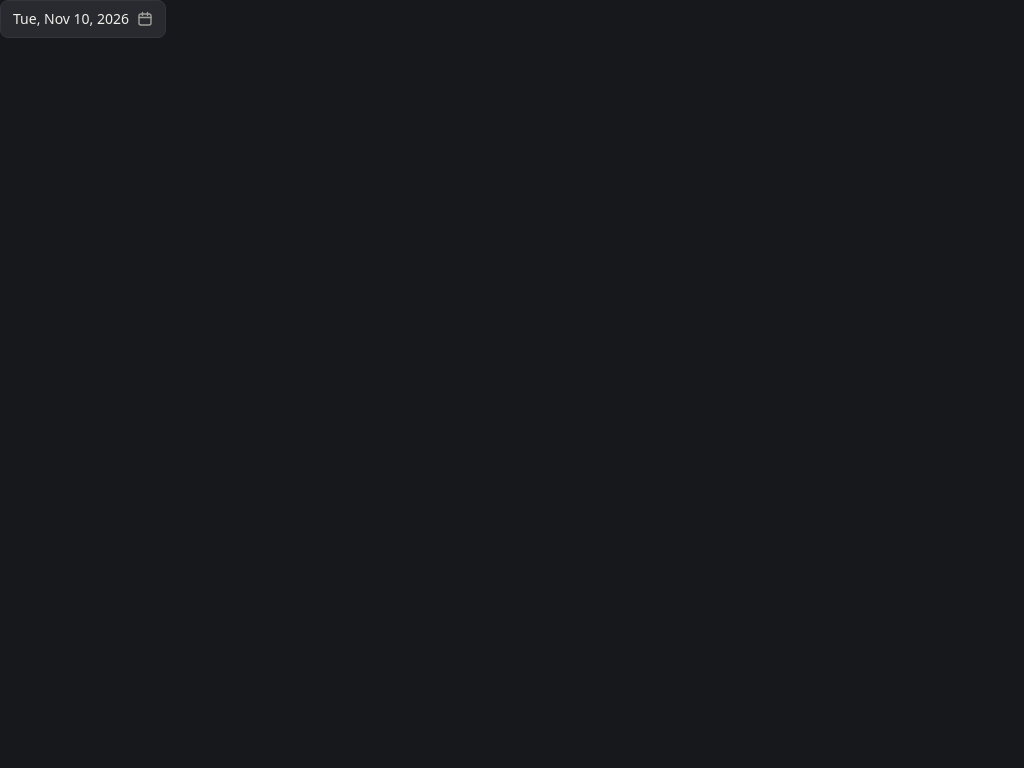
Test case: DatePicker › won't go past min and max
Later steps or results of the test are not shown.
Click the button with aria-label "Date": click(83, 19) [0,0,166,38]
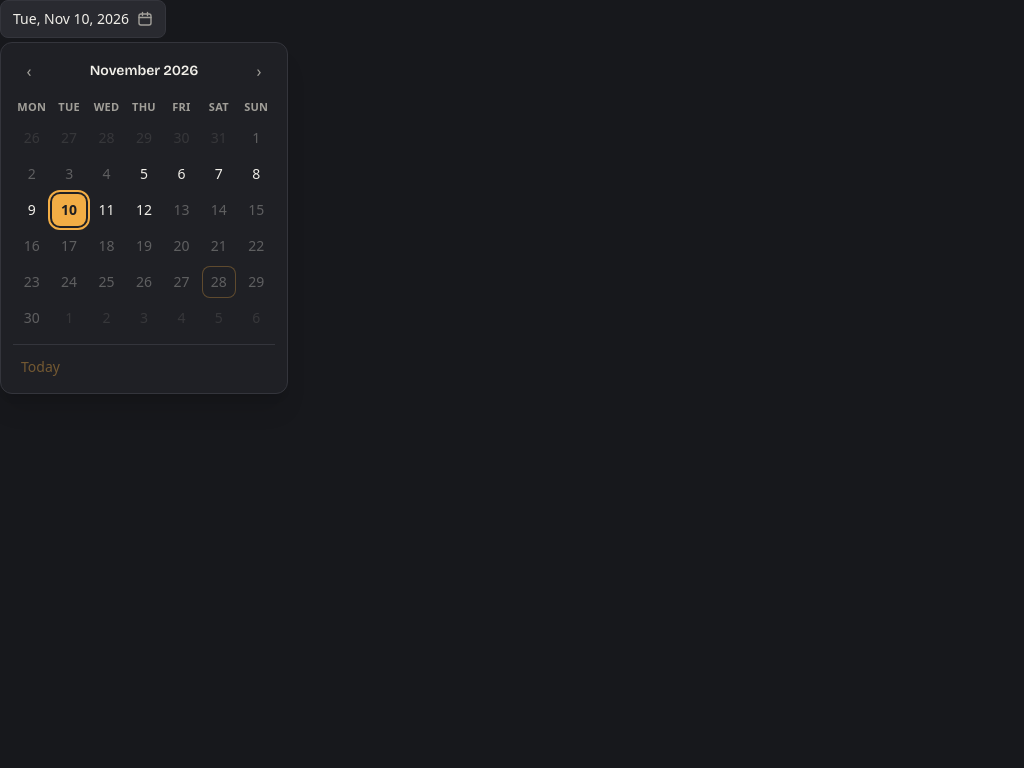
Check: the 1st button "4" is disabled, box [90,158,123,190]
Check: the button "13" is disabled, box [165,194,198,226]
